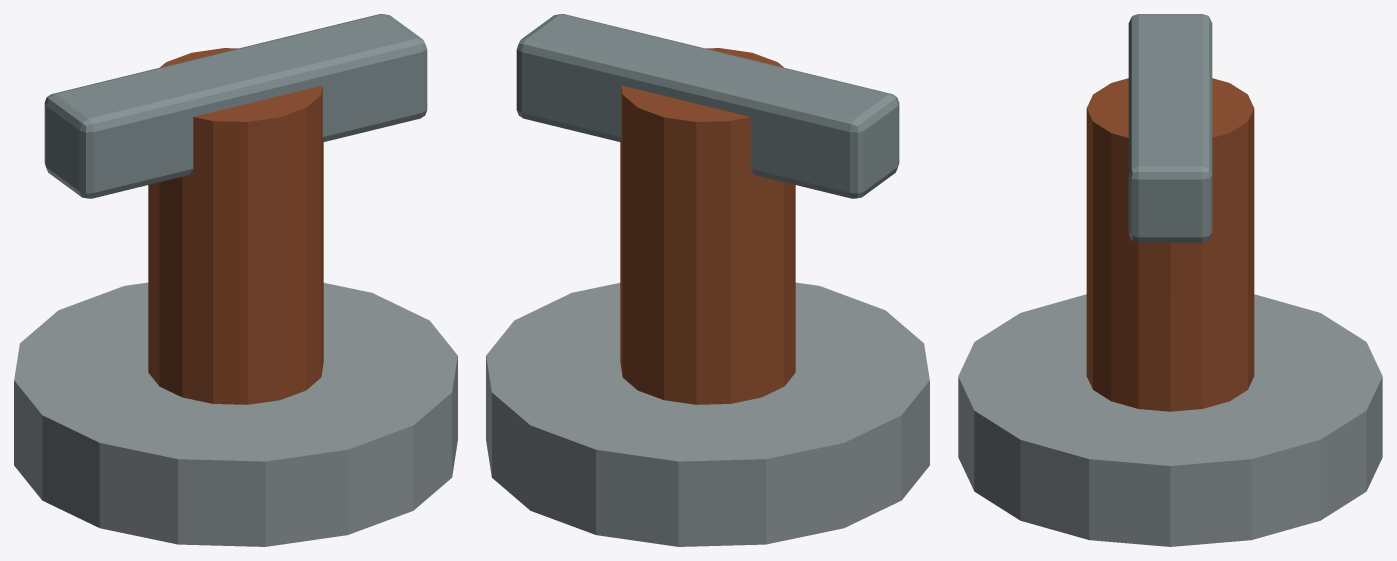
File: SM_FC01_Prop_MooringBollard_A.fbx
3 renders of one model, left to right at view 1: azimuth 30°, elevation 25°; view 2: azimuth 150°, elevation 25°; view 3: azimuth 270°, elevation 25°, orthographic. The views are drawn at different scales.
Visible parts, largest first — view 1: SM_FC01_Prop_MooringBollard_A_Foot, SM_FC01_Prop_MooringBollard_A_Stem, SM_FC01_Prop_MooringBollard_A_Horn; view 2: SM_FC01_Prop_MooringBollard_A_Foot, SM_FC01_Prop_MooringBollard_A_Stem, SM_FC01_Prop_MooringBollard_A_Horn; view 3: SM_FC01_Prop_MooringBollard_A_Foot, SM_FC01_Prop_MooringBollard_A_Stem, SM_FC01_Prop_MooringBollard_A_Horn.
Boxes of the visible parts, x1,y1,x2,y2 form: SM_FC01_Prop_MooringBollard_A_Foot: (14, 282, 457, 546); SM_FC01_Prop_MooringBollard_A_Stem: (148, 48, 323, 404); SM_FC01_Prop_MooringBollard_A_Horn: (44, 14, 427, 198); SM_FC01_Prop_MooringBollard_A_Foot: (486, 282, 929, 546); SM_FC01_Prop_MooringBollard_A_Stem: (620, 48, 795, 404); SM_FC01_Prop_MooringBollard_A_Horn: (516, 14, 899, 198); SM_FC01_Prop_MooringBollard_A_Foot: (958, 294, 1382, 546); SM_FC01_Prop_MooringBollard_A_Stem: (1086, 78, 1254, 411); SM_FC01_Prop_MooringBollard_A_Horn: (1128, 14, 1212, 242).
Size of the model in its own units: 0.76 by 0.725 by 0.76.
